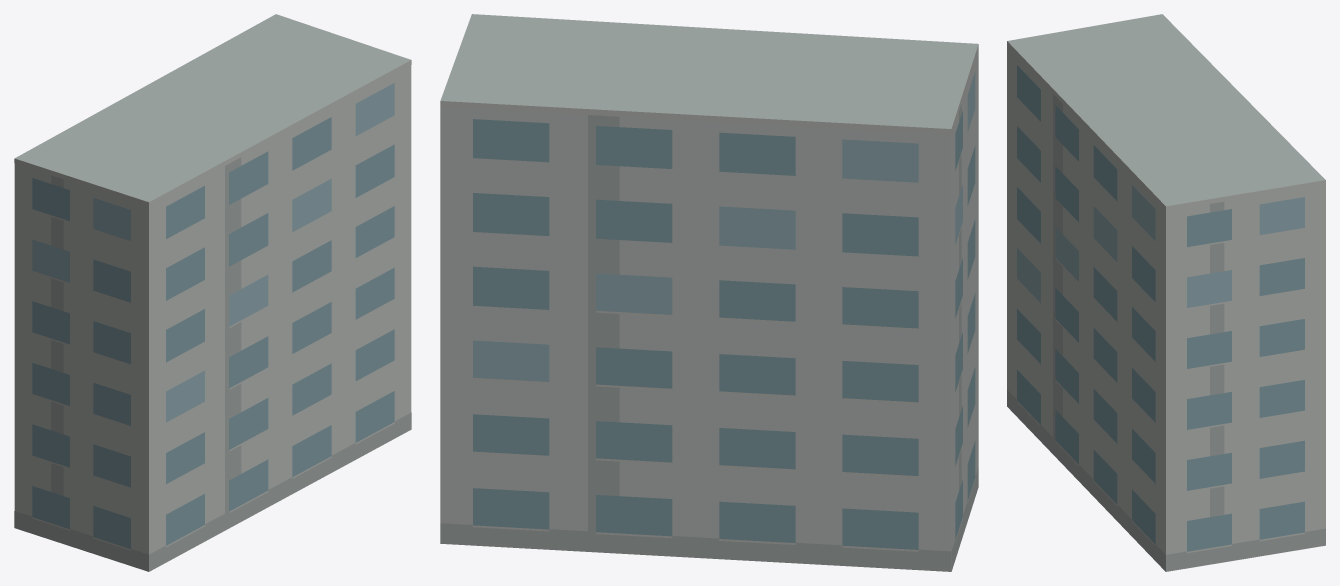
Rendered from survey-upis-32772145.glb.
The picture shows the model from 3 angles, left to right: view 1: azimuth 30°, elevation 25°; view 2: azimuth 150°, elevation 25°; view 3: azimuth 270°, elevation 25°; orthographic projection. The views are drawn at different scales.
Parts seen in each view (by area): view 1: survey-upis-32772145.tmp; view 2: survey-upis-32772145.tmp; view 3: survey-upis-32772145.tmp.
Boxes of the visible parts, x1,y1,x2,y2 form: survey-upis-32772145.tmp: [14, 14, 411, 571]; survey-upis-32772145.tmp: [440, 14, 978, 571]; survey-upis-32772145.tmp: [1007, 14, 1325, 571].
Size of the model in its own units: 20.67 by 18.3 by 14.47.
